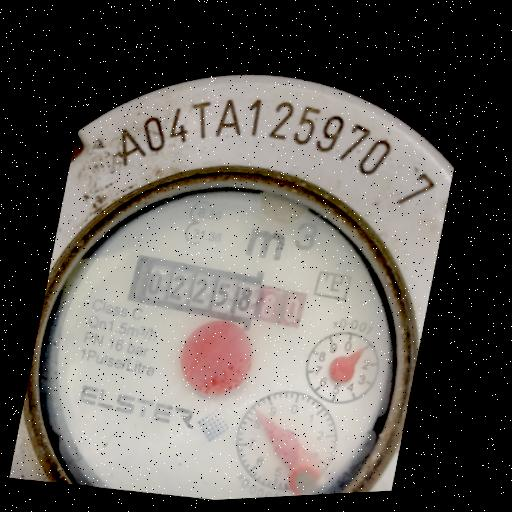0: (277, 288, 307, 329), (142, 261, 172, 301)
2: (186, 269, 215, 310), (164, 265, 192, 305)
5: (208, 275, 236, 315)
8: (230, 279, 261, 320), (254, 284, 283, 324)
border_water_meter_number: (121, 243, 319, 347)
